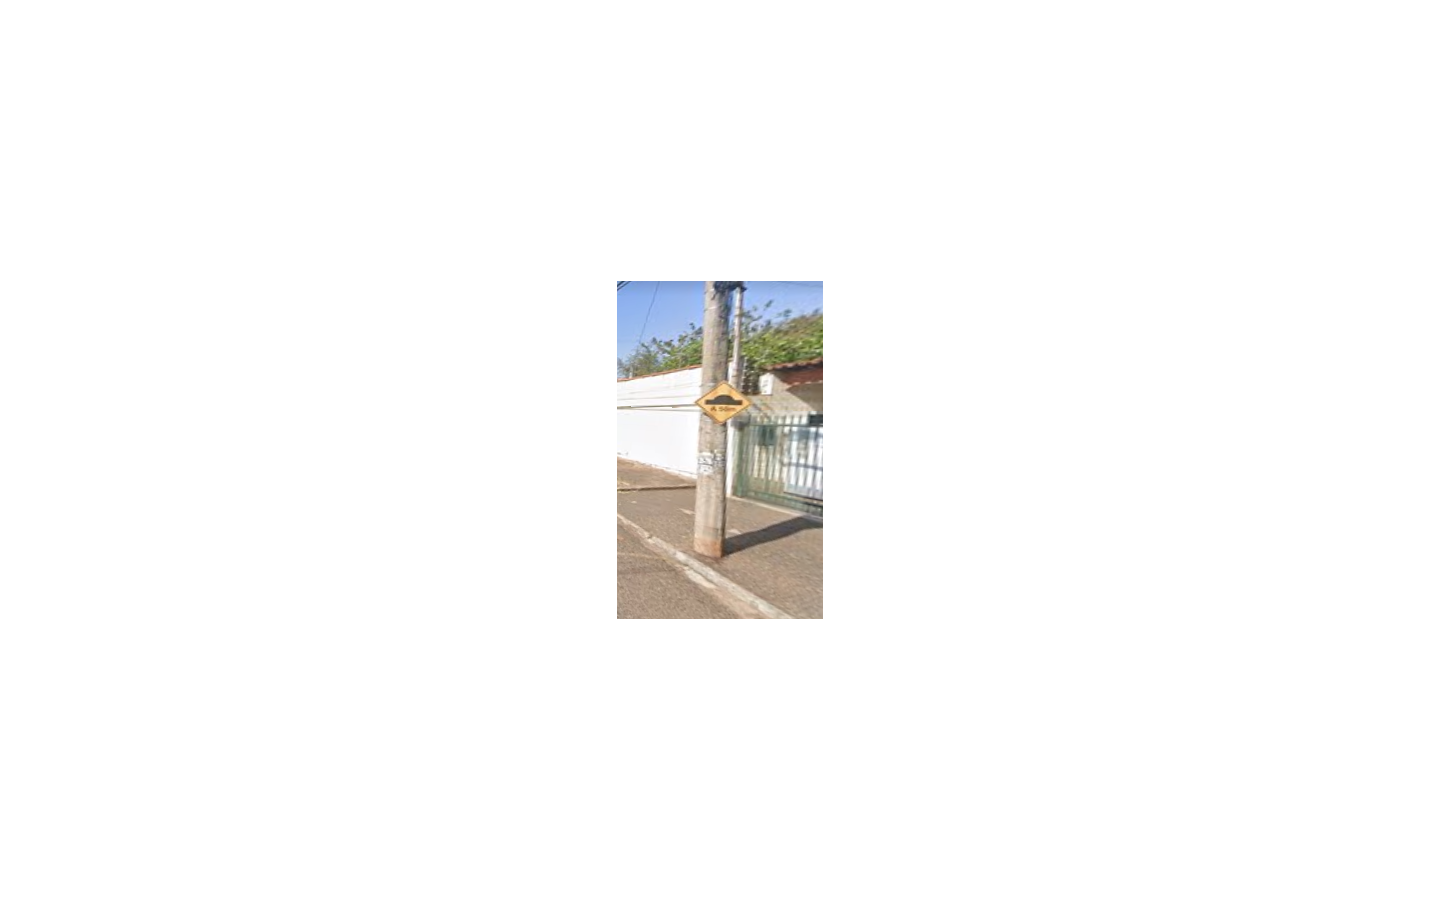l50m: (694, 381, 751, 425)
